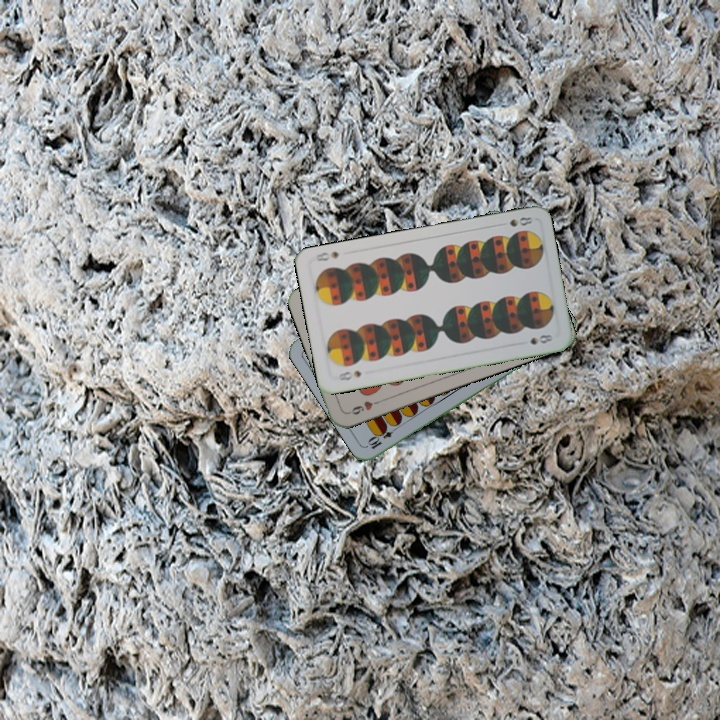E10: (364, 421, 401, 452)
H9: (344, 396, 383, 417)
S8: (334, 367, 364, 383), (505, 213, 535, 229)
